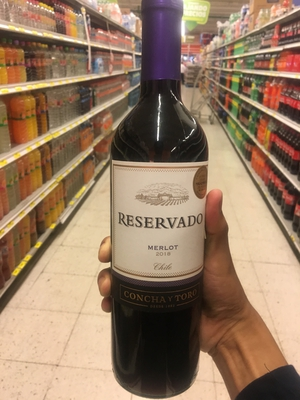reservado merlot: (103, 2, 216, 384)
